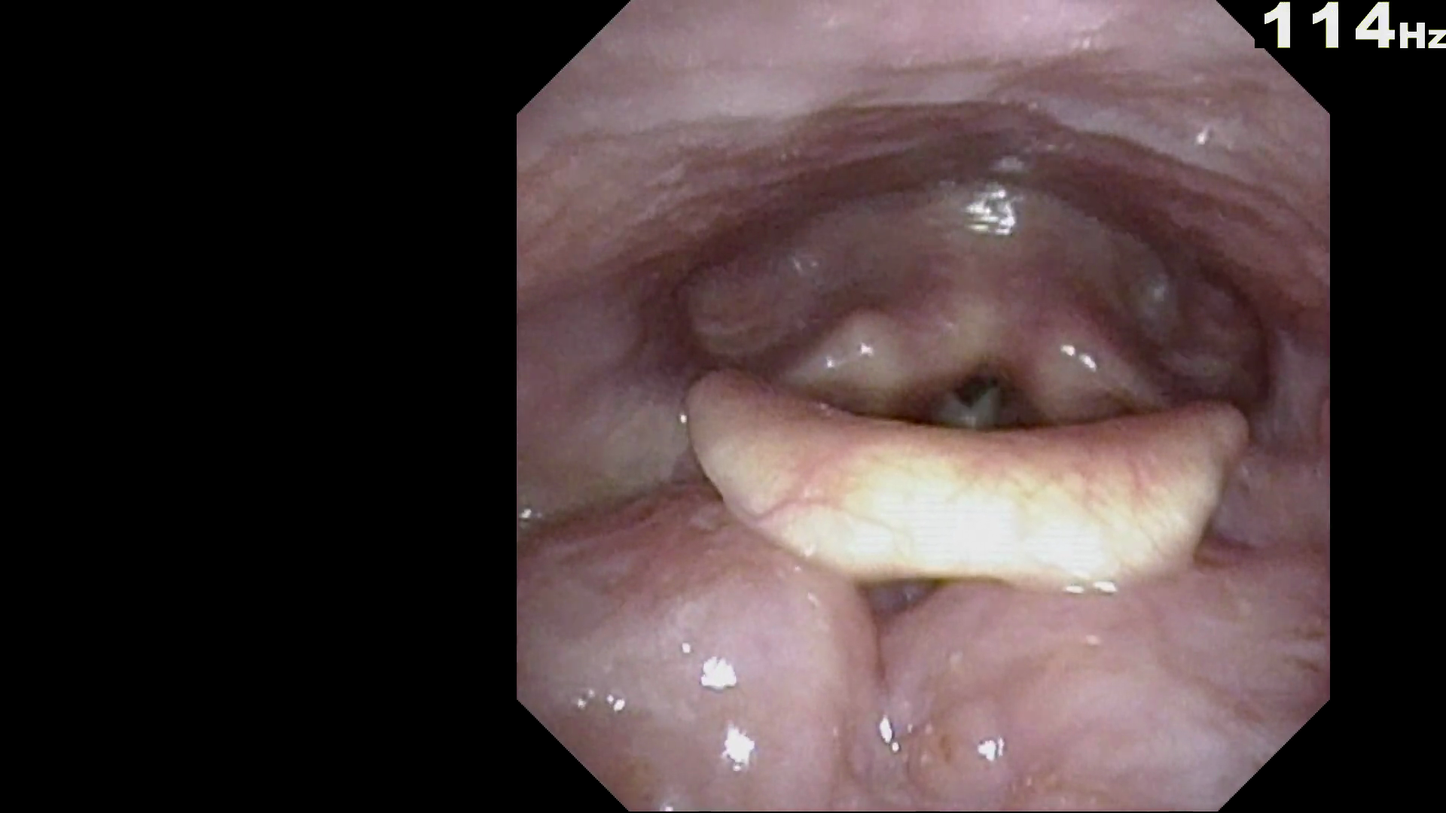epiglottis: (673, 345, 1275, 607)
trachea: (905, 320, 1052, 474)
